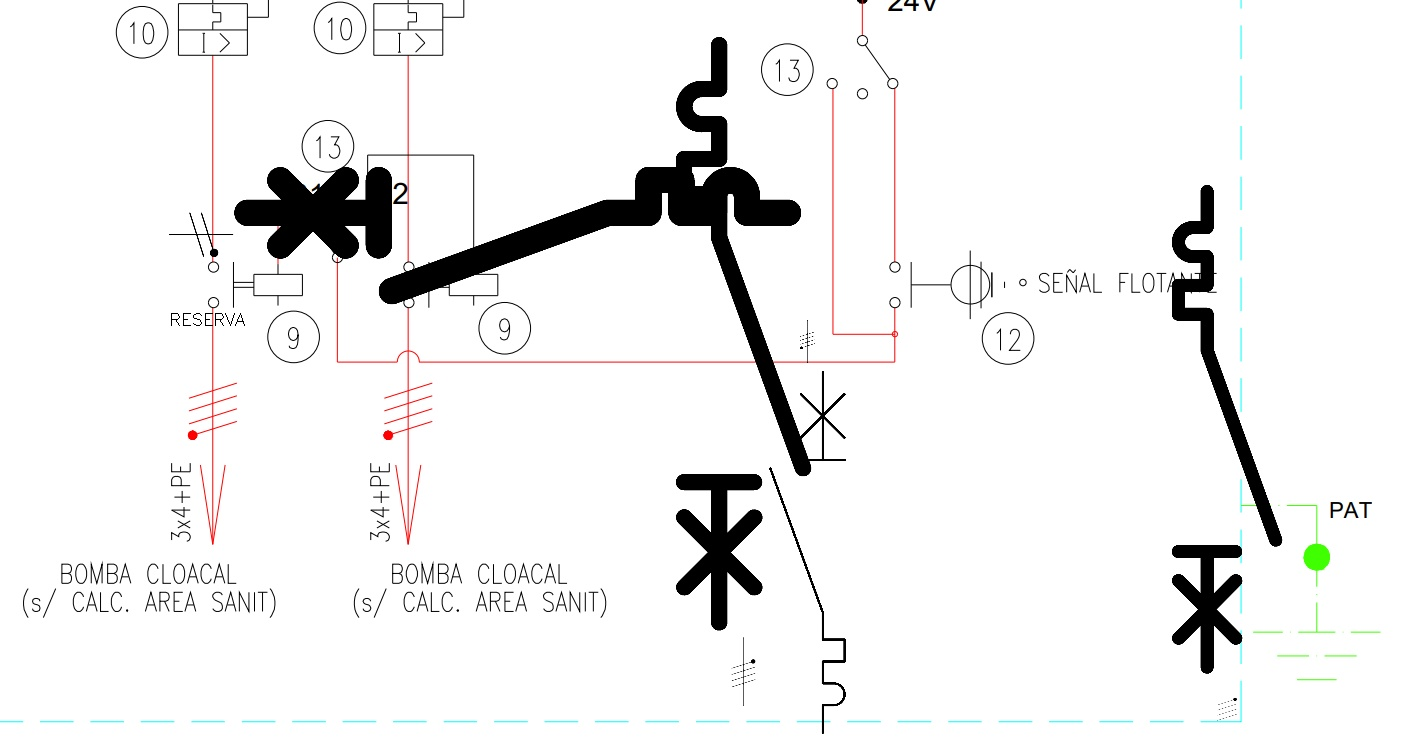interruptor_termomagnetico: (669, 30, 817, 637), (233, 166, 802, 305), (1166, 179, 1288, 680), (761, 362, 854, 741)
